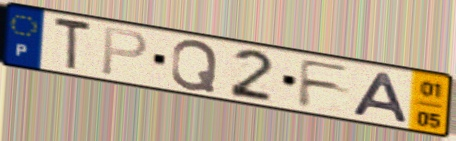2: (229, 48, 277, 105)
A: (348, 70, 412, 125)
F: (296, 57, 354, 109)
P: (98, 25, 150, 78)
Q: (168, 38, 221, 95)
T: (53, 14, 95, 73)
